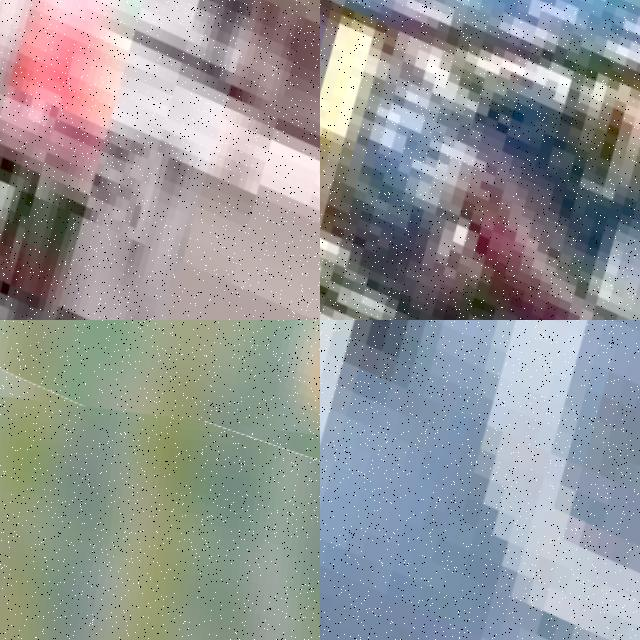drone: (0, 0, 320, 320), (320, 0, 640, 320), (320, 320, 640, 640), (0, 320, 320, 444)
